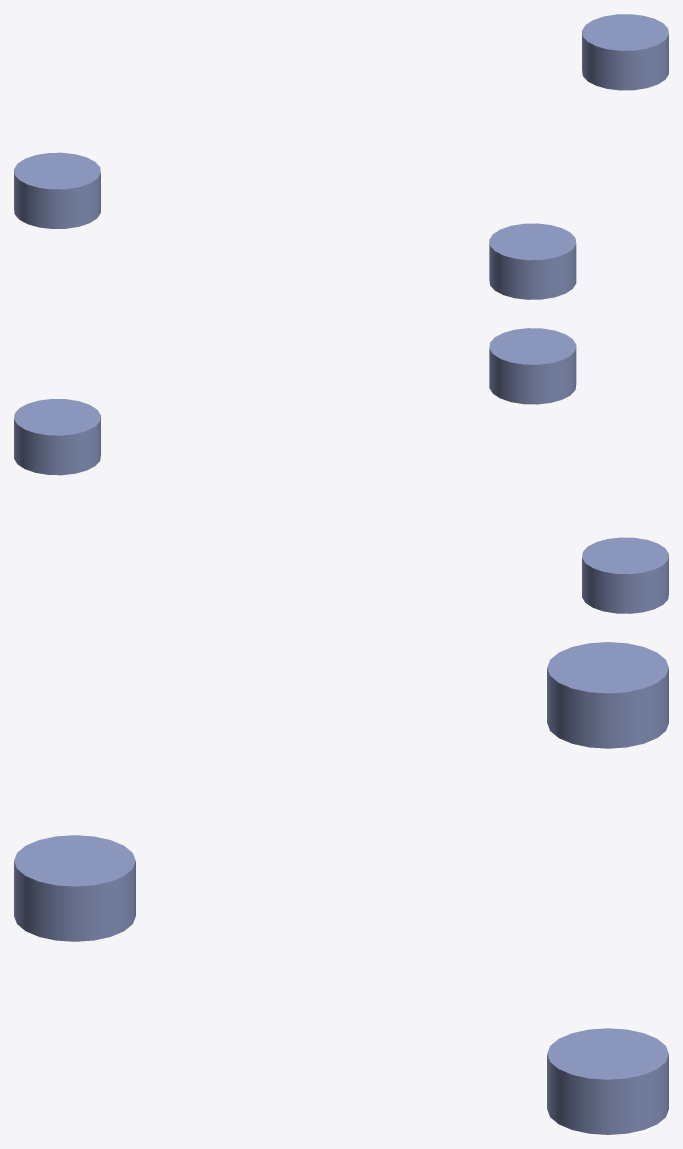
File: Lights-Ramp01.FBX
3 renders of one model, top to bottom at view 1: azimuth 30°, elevation 25°; view 2: azimuth 150°, elevation 25°; view 3: azimuth 270°, elevation 25°, orthographic. The views are drawn at different scales.
Visible parts, largest first — view 1: Cylinder21, Cylinder04, Cylinder19; view 2: Cylinder21, Cylinder19, Cylinder04; view 3: Cylinder21, Cylinder04, Cylinder19.
Part boxes in pixels (<box>): Cylinder21: <box>489,223,576,299</box>; Cylinder04: <box>582,14,668,90</box>; Cylinder19: <box>14,152,100,228</box>; Cylinder21: <box>489,328,576,404</box>; Cylinder19: <box>582,537,668,613</box>; Cylinder04: <box>14,399,100,475</box>; Cylinder21: <box>14,835,135,941</box>; Cylinder04: <box>547,1028,668,1134</box>; Cylinder19: <box>547,642,668,748</box>.
Bounding box in the file's own units: 6800 × 4300 × 400.
